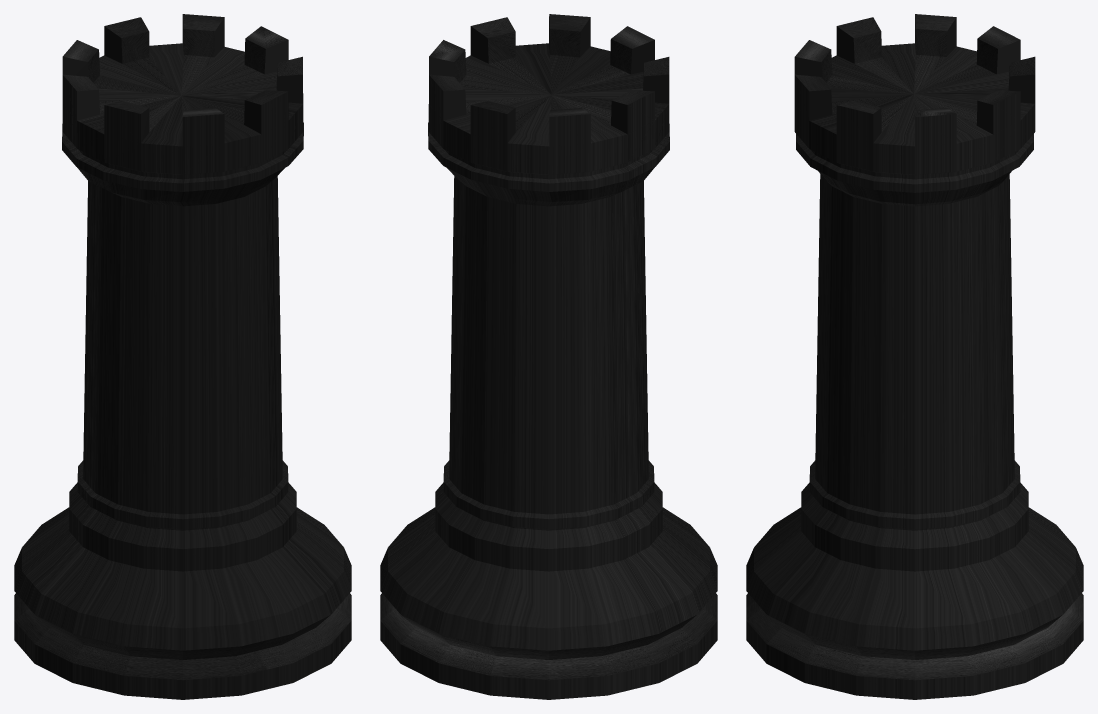
Rendered from b_rook_1.obj.
3 views of the same model, side by side, from view 1: azimuth 30°, elevation 25°; view 2: azimuth 150°, elevation 25°; view 3: azimuth 270°, elevation 25° (orthographic).
Size of the model in its own units: 0.1443 by 0.2673 by 0.1422.
1 material, 1 textured.
